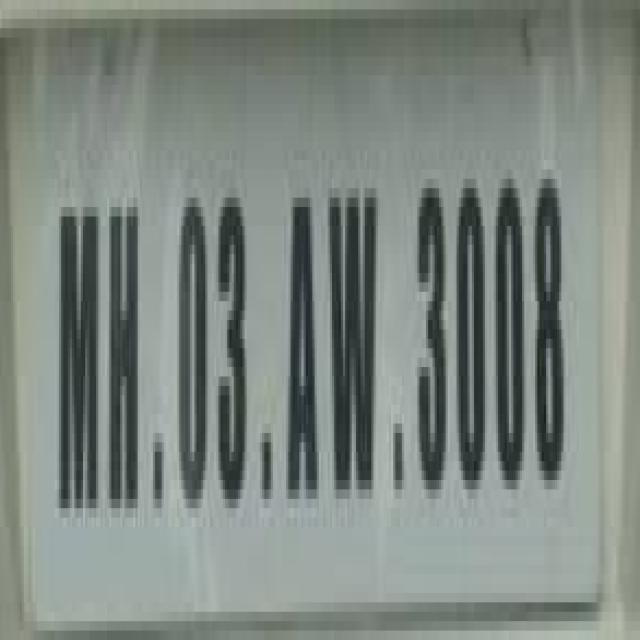plate: (4, 9, 605, 640)
